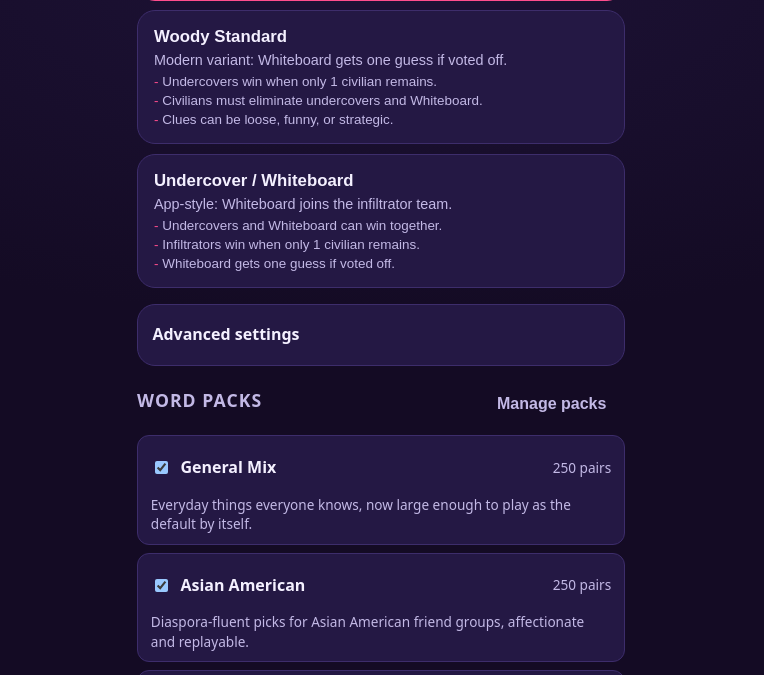
Scenario: SetupScreen › changing an advanced override changes the summary
The image size is (764, 675).
(page scrolled)
Click the heading "Advanced settings".
click(226, 334)  # box [152,323,300,345]
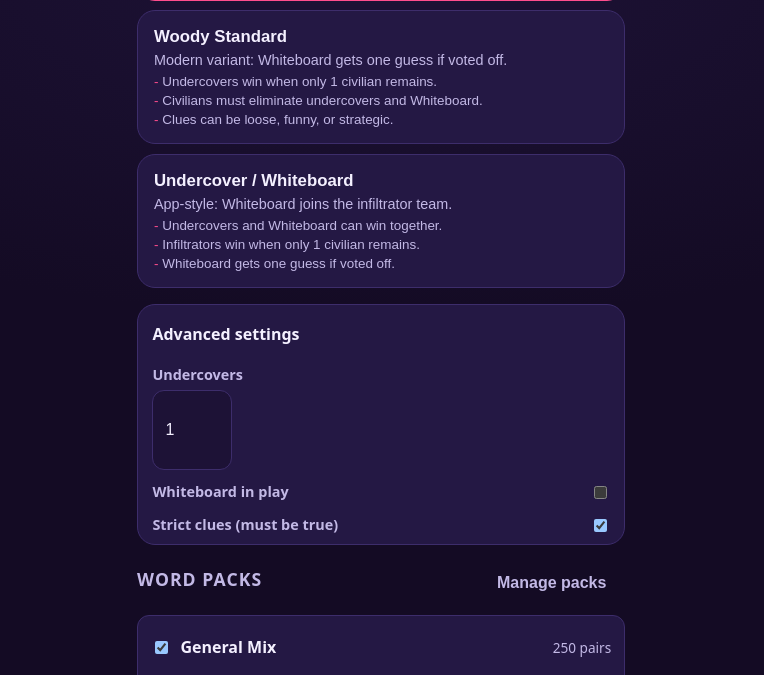
Replace the text in the number field labelled "Undercovers" with "2" at (192, 430), box [152,390,232,470]
(page scrolled)
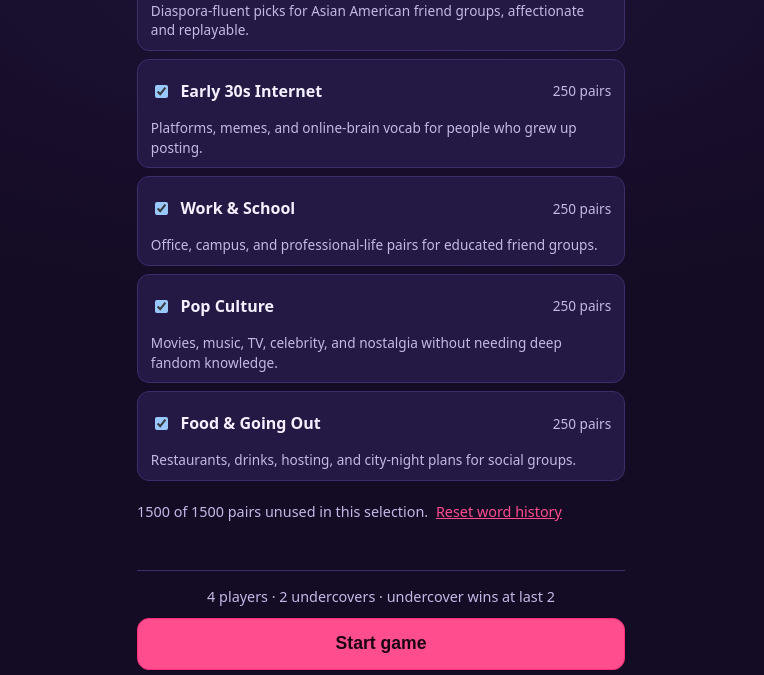
Expected: the text with test id "setup-summary" shows "2 undercovers", [207,587,555,606]
